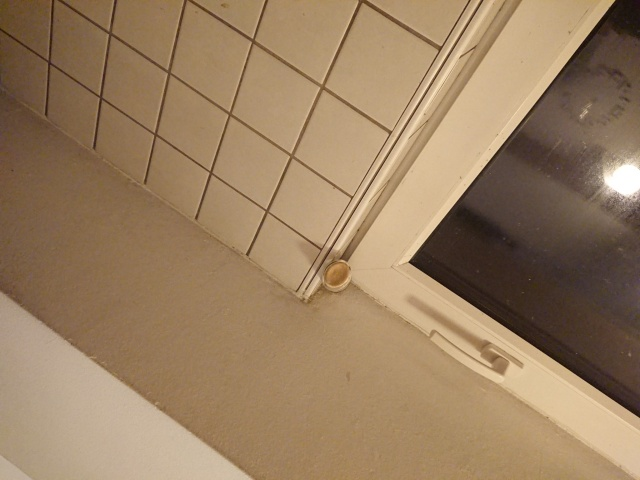Kotanyi Garlic Granules 70g: (320, 258, 354, 295)
